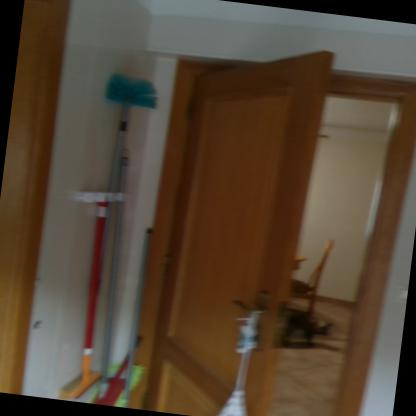semi: (107, 21, 415, 415)
